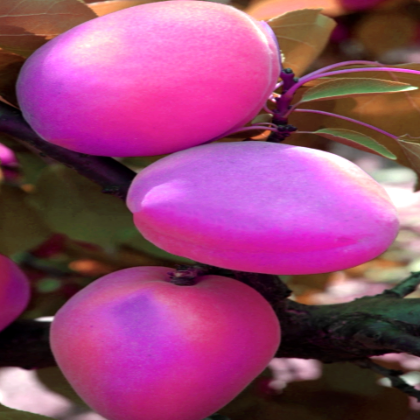mango: (0, 1, 298, 160), (31, 249, 299, 420), (123, 126, 401, 285)
